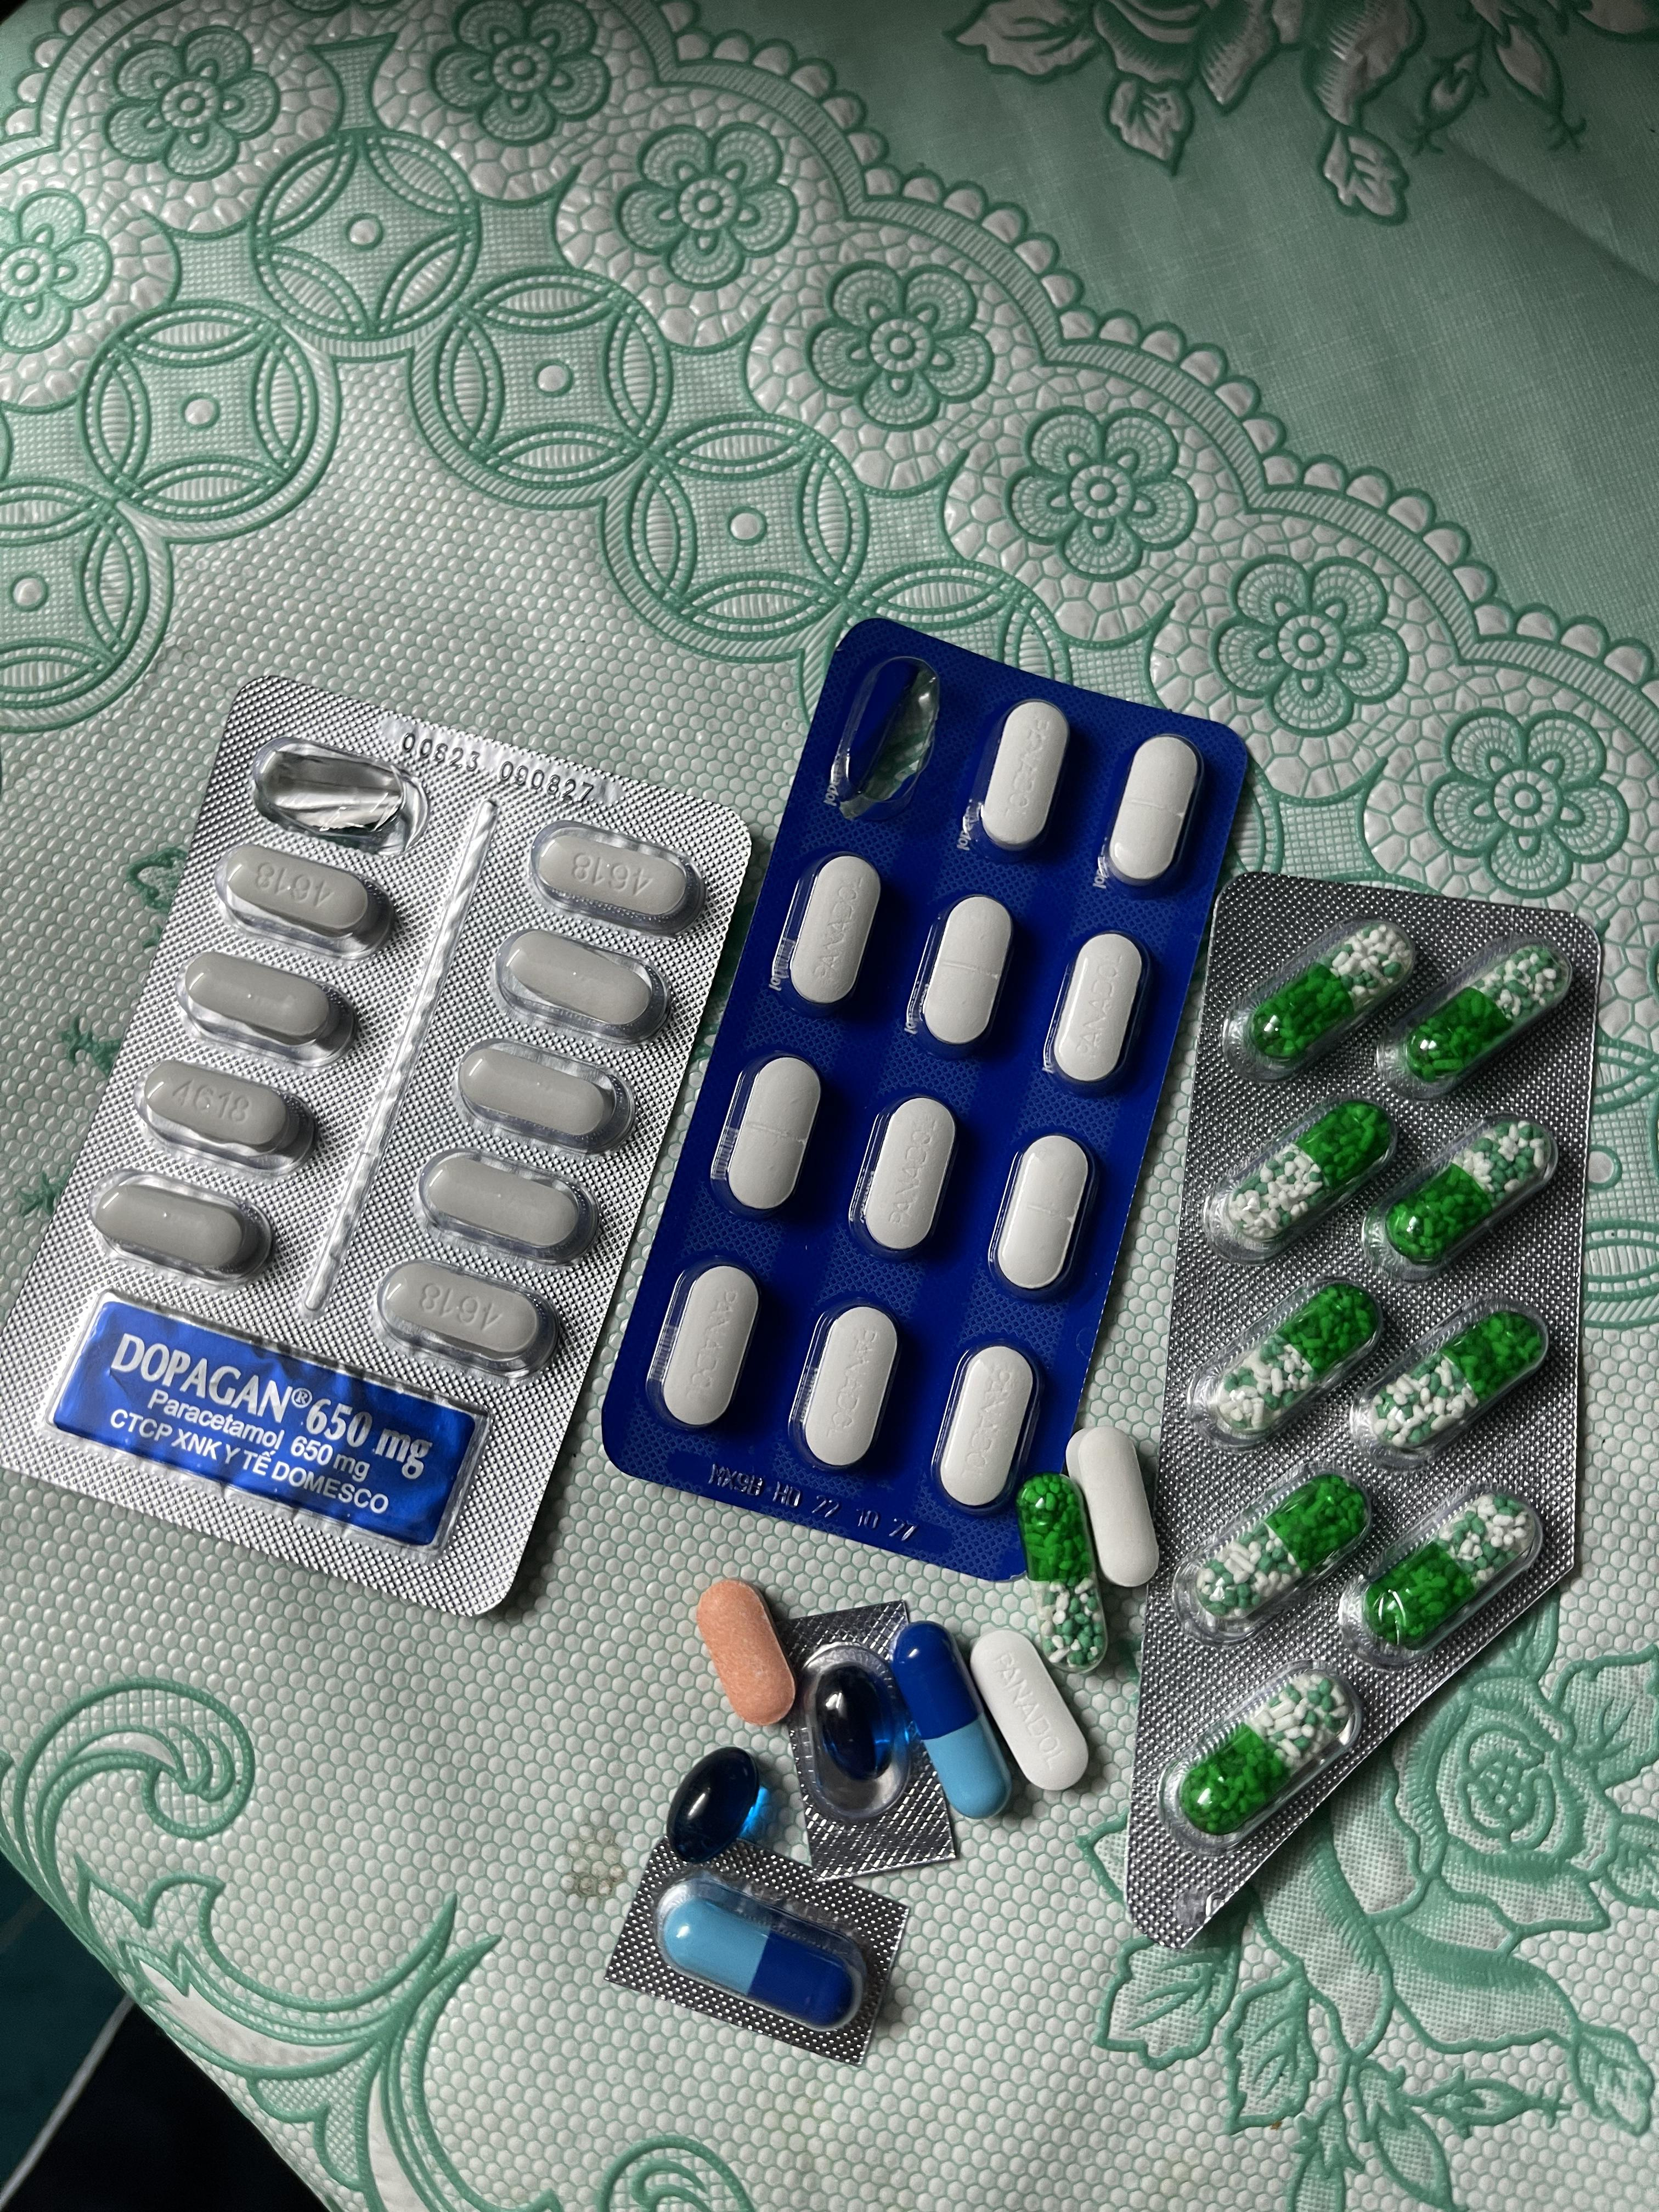Lincomyxin_500mg: (664, 1747, 779, 1867), (816, 1670, 887, 1782)
Loratadine_10mg: (695, 1581, 798, 1726)
Paracetamol_350mg: (969, 1630, 1087, 1796), (850, 1096, 958, 1259), (995, 1132, 1100, 1301), (936, 1343, 1044, 1505), (657, 1261, 760, 1428), (798, 1303, 901, 1468), (720, 1057, 819, 1223), (913, 895, 1014, 1057), (782, 855, 882, 1014), (1047, 935, 1147, 1094), (1103, 737, 1202, 892), (978, 702, 1073, 857)
Paracetamol_500mg: (373, 1258, 558, 1386), (178, 949, 357, 1071), (418, 1148, 596, 1270), (218, 843, 397, 963), (493, 927, 669, 1049), (87, 1169, 274, 1284), (134, 1057, 315, 1174), (530, 820, 704, 939), (457, 1038, 634, 1153), (1068, 1425, 1159, 1580)
Paracetamol_650mg: (1361, 1480, 1541, 1644), (1211, 1285, 1384, 1449), (1195, 1474, 1368, 1630), (1183, 1676, 1349, 1836), (1368, 1310, 1546, 1456), (1223, 1099, 1394, 1249), (1241, 923, 1417, 1068), (1384, 1122, 1558, 1264), (1401, 942, 1568, 1082), (1014, 1484, 1105, 1662)
pill: (655, 1874, 870, 2031), (897, 1622, 1016, 1817)
